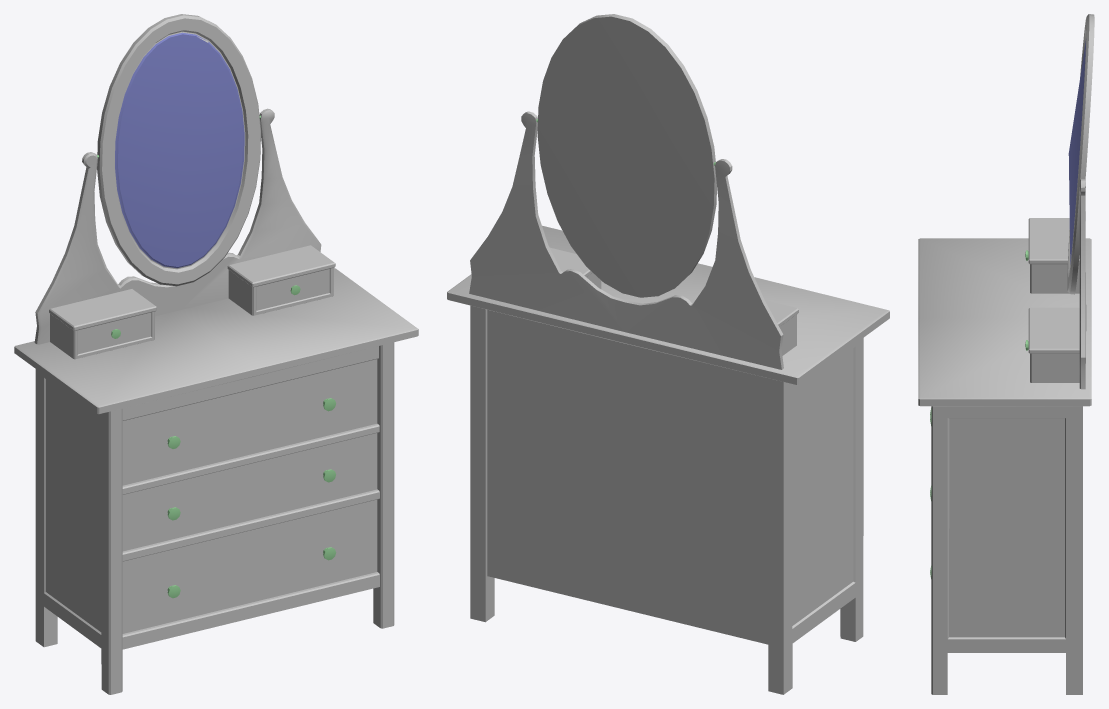
The model's file is HemnesMirrorChest.FBX.
The picture shows the model from 3 angles, left to right: view 1: azimuth 30°, elevation 25°; view 2: azimuth 150°, elevation 25°; view 3: azimuth 270°, elevation 25°; orthographic projection. The views are drawn at different scales.
Visible parts, largest first — view 1: HemnesMirrorChest; view 2: HemnesMirrorChest; view 3: HemnesMirrorChest.
Boxes of the visible parts, left/top/right/bottom form: HemnesMirrorChest: left=14, top=14, right=418, bottom=694; HemnesMirrorChest: left=447, top=14, right=889, bottom=694; HemnesMirrorChest: left=918, top=14, right=1094, bottom=694.
Bounding box in the file's own units: 110 × 50.8 × 192.
